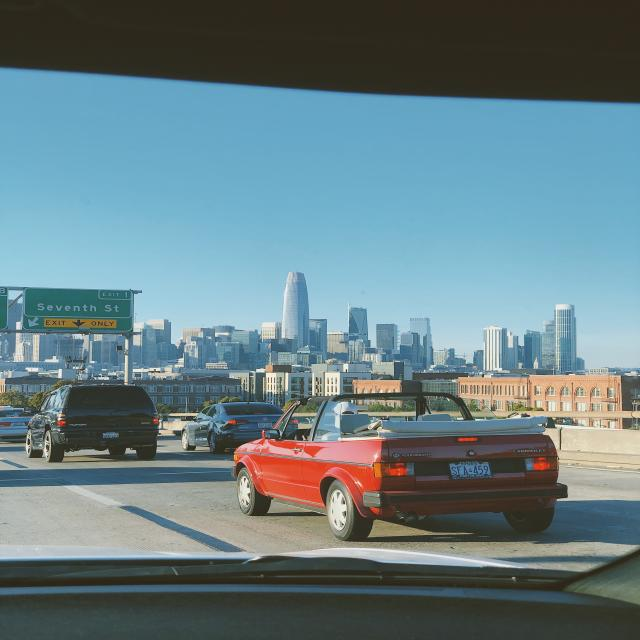Plat: (446, 460, 494, 480), (100, 430, 120, 440), (257, 421, 274, 429)
